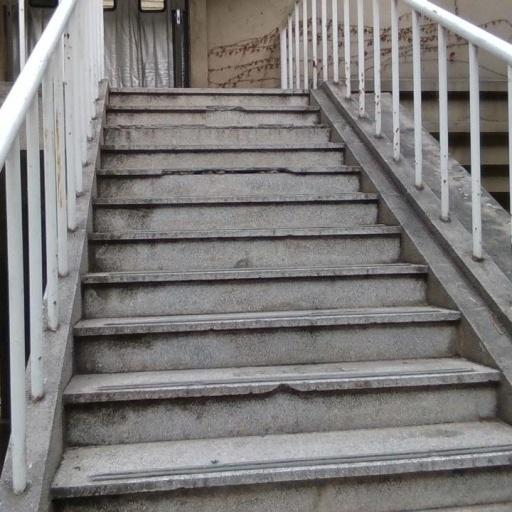stairs: (52, 90, 511, 511)
